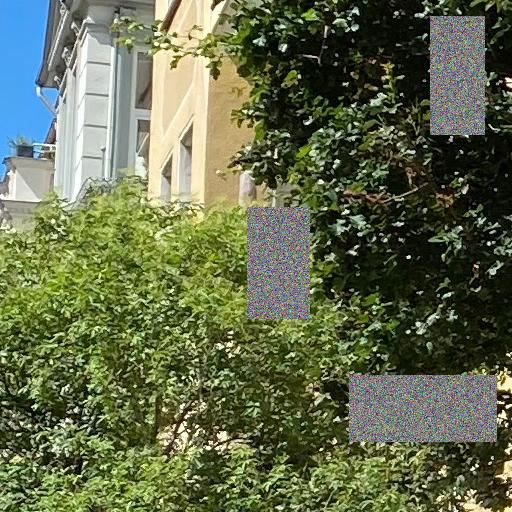tree: (109, 1, 511, 511), (1, 168, 465, 512)
